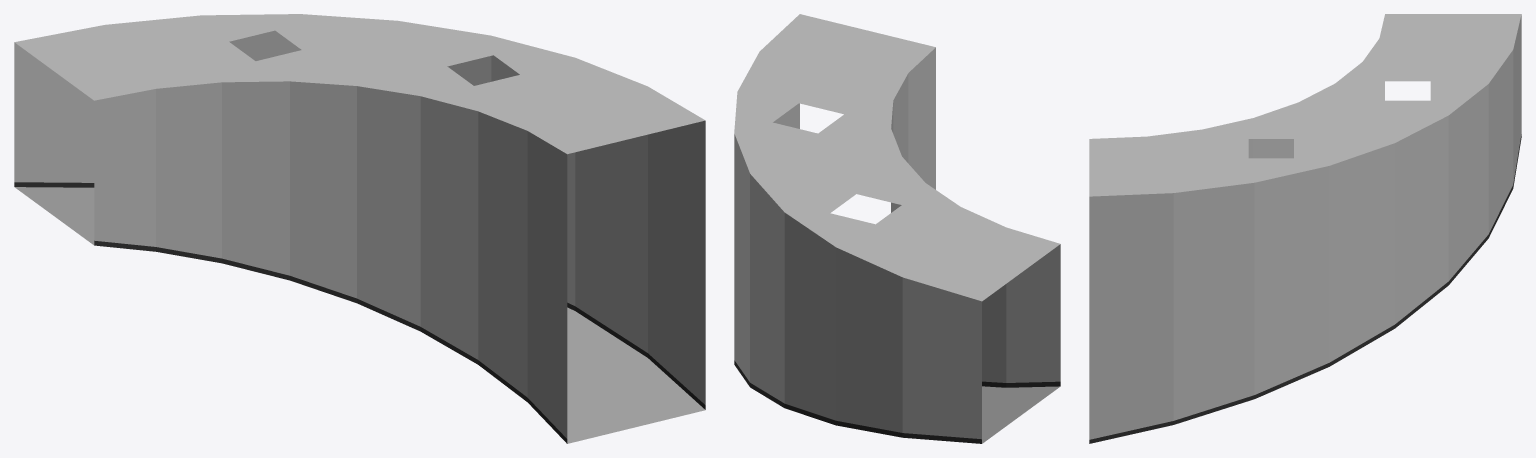
File: CurvedStairDown.fbx
The picture shows the model from 3 angles, left to right: view 1: azimuth 30°, elevation 25°; view 2: azimuth 150°, elevation 25°; view 3: azimuth 270°, elevation 25°; orthographic projection. The views are drawn at different scales.
Visible parts, largest first — view 1: CurvedDescent; view 2: CurvedDescent; view 3: CurvedDescent.
Part boxes in pixels (x1=…): CurvedDescent: x1=14, y1=14, x2=705, y2=443; CurvedDescent: x1=734, y1=14, x2=1060, y2=443; CurvedDescent: x1=1089, y1=14, x2=1521, y2=443.
Bounding box in the file's own units: 950 × 600 × 950.
